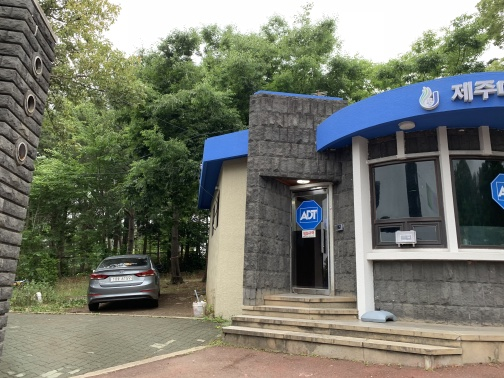Security Office: (198, 68, 503, 368)
